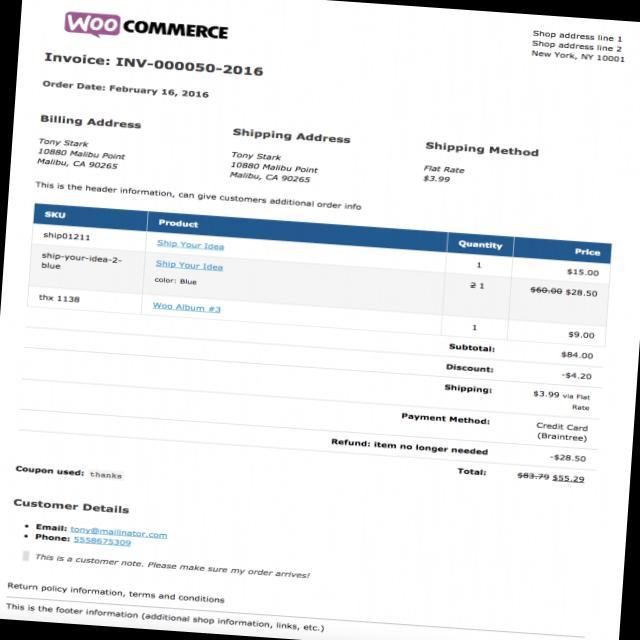customer_address: (32, 146, 131, 174)
customer_name: (34, 132, 90, 150)
invoice_date: (106, 83, 216, 103)
invoice_number: (111, 50, 272, 80)
invoice_subtotal: (556, 348, 598, 362)
invoice_total: (508, 467, 588, 490)
item_description: (146, 234, 263, 327)
item_quantity: (457, 256, 496, 335)
item_total_price: (522, 262, 606, 344)
supplier_name: (58, 9, 238, 45), (523, 26, 631, 68)
